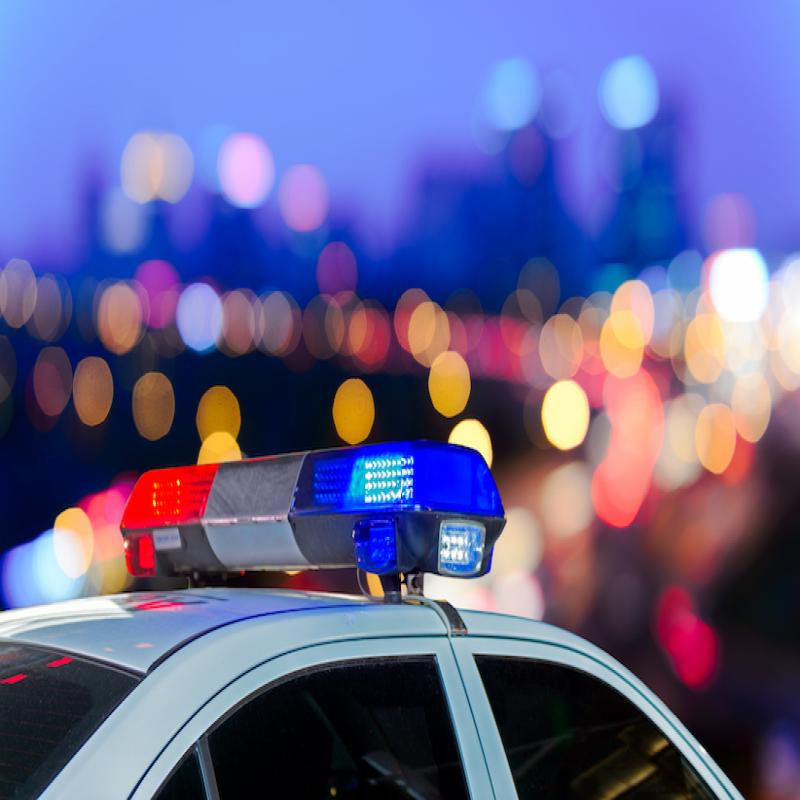AmbulanceSiren: (90, 422, 521, 657)
